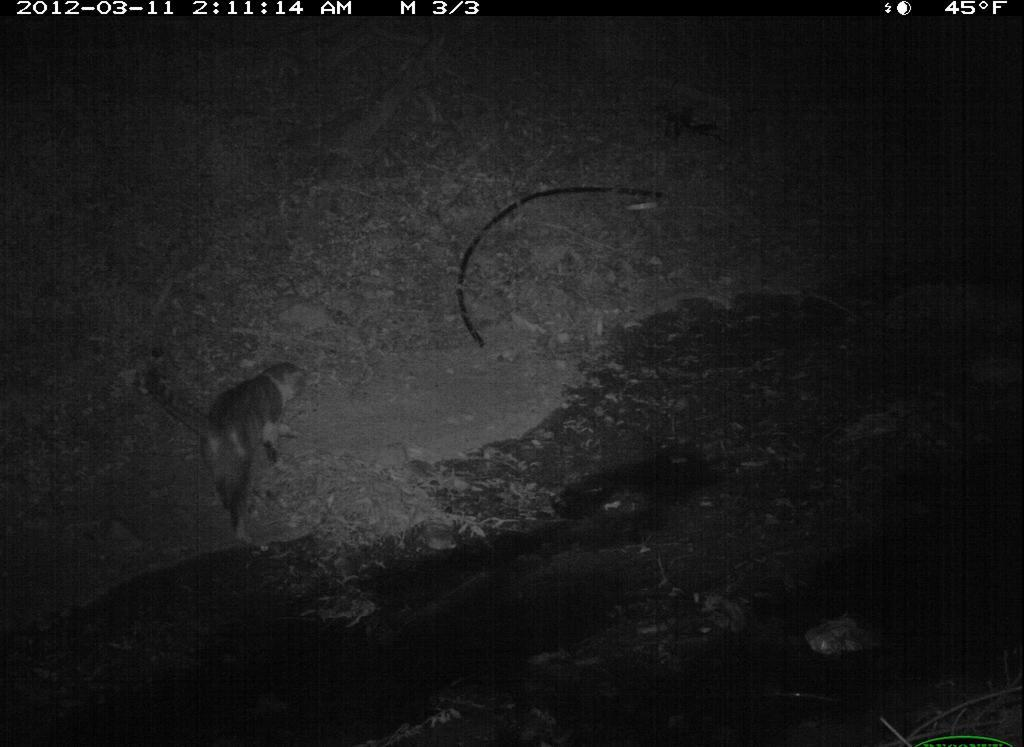cat: (148, 338, 327, 551)
